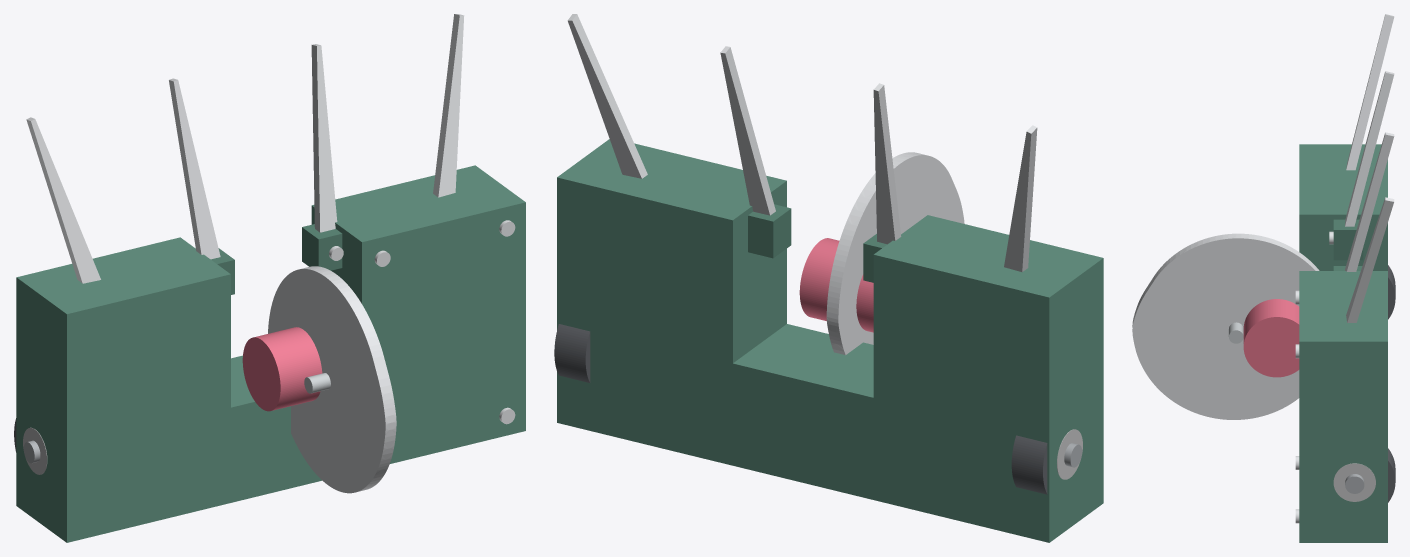
File: boss_baby.glb
3 renders of one model, left to right at view 1: azimuth 30°, elevation 25°; view 2: azimuth 150°, elevation 25°; view 3: azimuth 270°, elevation 25°, orthographic. The views are drawn at different scales.
Parts seen in each view (by area): view 1: pod_r, pod_l, weapon, bridge, motor, fork_2, fork_3, fork_1, fork_0, dt_mount_fork_2; view 2: pod_r, pod_l, bridge, weapon, fork_3, fork_2, motor, fork_1, fork_0, dt_mount_fork_2, wheel_l0, wheel_r0 (+1 smaller); view 3: pod_l, weapon, pod_r, motor, fork_1, fork_0, fork_2, fork_3, dt_hub_wheel_l0, dt_mount_fork_1, wheel_l0, wheel_r0 (+1 smaller).
Boxes of the visible parts, x1,y1,x2,y2 form: pod_r: (16,237,230,542); pod_l: (311,165,525,463); weapon: (268,266,396,493); bridge: (230,355,321,502); motor: (242,327,322,411); fork_2: (311,44,337,232); fork_3: (433,14,464,197); fork_1: (169,78,220,259); fork_0: (26,117,100,283); dt_mount_fork_2: (302,224,342,270); pod_r: (873,215,1103,542); pod_l: (557,139,786,465); bridge: (732,324,873,499); weapon: (826,152,964,355); fork_3: (567,14,647,178); fork_2: (720,46,775,215); motor: (799,238,873,332); fork_1: (873,83,901,244); fork_0: (1004,125,1037,271); dt_mount_fork_2: (748,204,791,258); wheel_l0: (554,324,590,382); wheel_r0: (1011,435,1047,494); pod_l: (1299,271,1387,542); weapon: (1132,233,1319,419); pod_r: (1299,144,1387,270); motor: (1243,299,1299,377); fork_1: (1345,71,1394,226); fork_0: (1346,14,1394,170); fork_2: (1345,132,1394,271); fork_3: (1346,197,1394,322); dt_hub_wheel_l0: (1333,463,1375,501); dt_mount_fork_1: (1333,219,1363,260); wheel_l0: (1388,448,1395,502); wheel_r0: (1388,265,1395,319).
Size of the model in its own units: 129 by 102 by 71.01.
